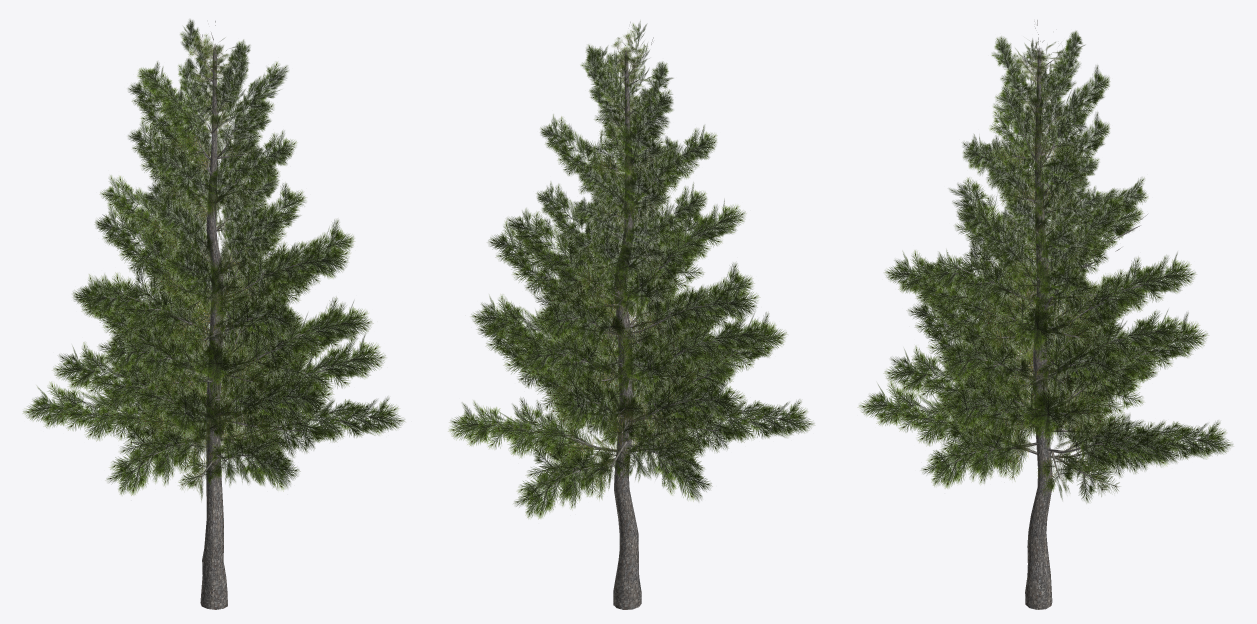
The model's file is pine.glb.
3 views of the same model, side by side, from view 1: azimuth 30°, elevation 25°; view 2: azimuth 150°, elevation 25°; view 3: azimuth 270°, elevation 25° (orthographic).
Bounding box in the file's own units: 4.03 × 7.52 × 4.55.
3 materials, 3 textured.
